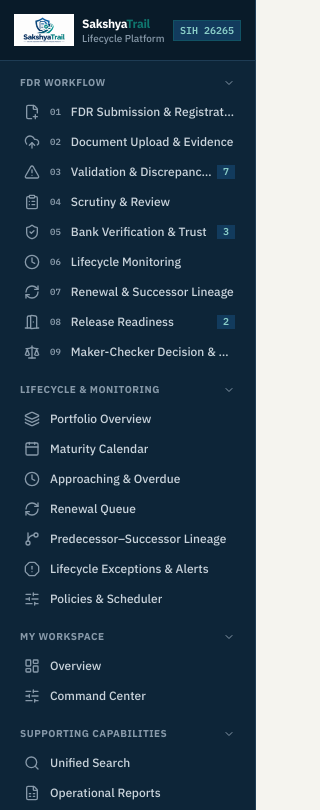
Test: Sidebar Component Navigation & IA (Prompt 3) › collapses and expands a navigation group when toggle header is clicked
Expected: the text "Overview" is shown, [50, 658, 102, 674]
Step 1. Click the button "My Workspace" → (128, 636), box [10, 625, 245, 648]
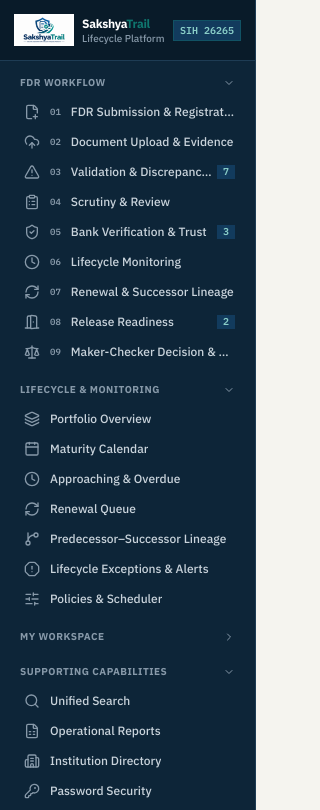
Note: Click again to expand
Step 2. Click the button "My Workspace" → (128, 636), box [10, 625, 245, 648]
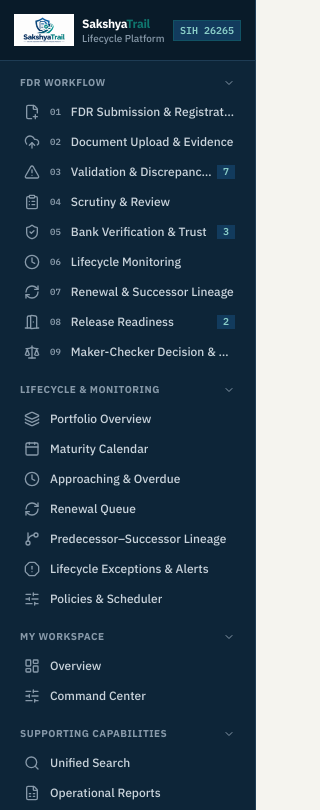
Now the text "Overview" is shown, box [50, 658, 102, 674]
